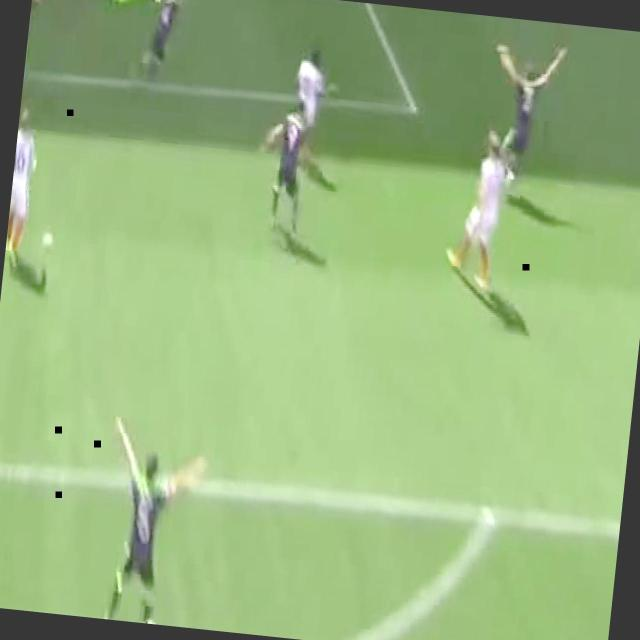ball: (43, 234, 55, 250)
player-white: (93, 407, 209, 628), (484, 37, 566, 204), (442, 128, 512, 296), (253, 102, 314, 244), (286, 48, 340, 176), (4, 108, 41, 270), (139, 0, 181, 86), (21, 0, 47, 109), (86, 0, 172, 14)
